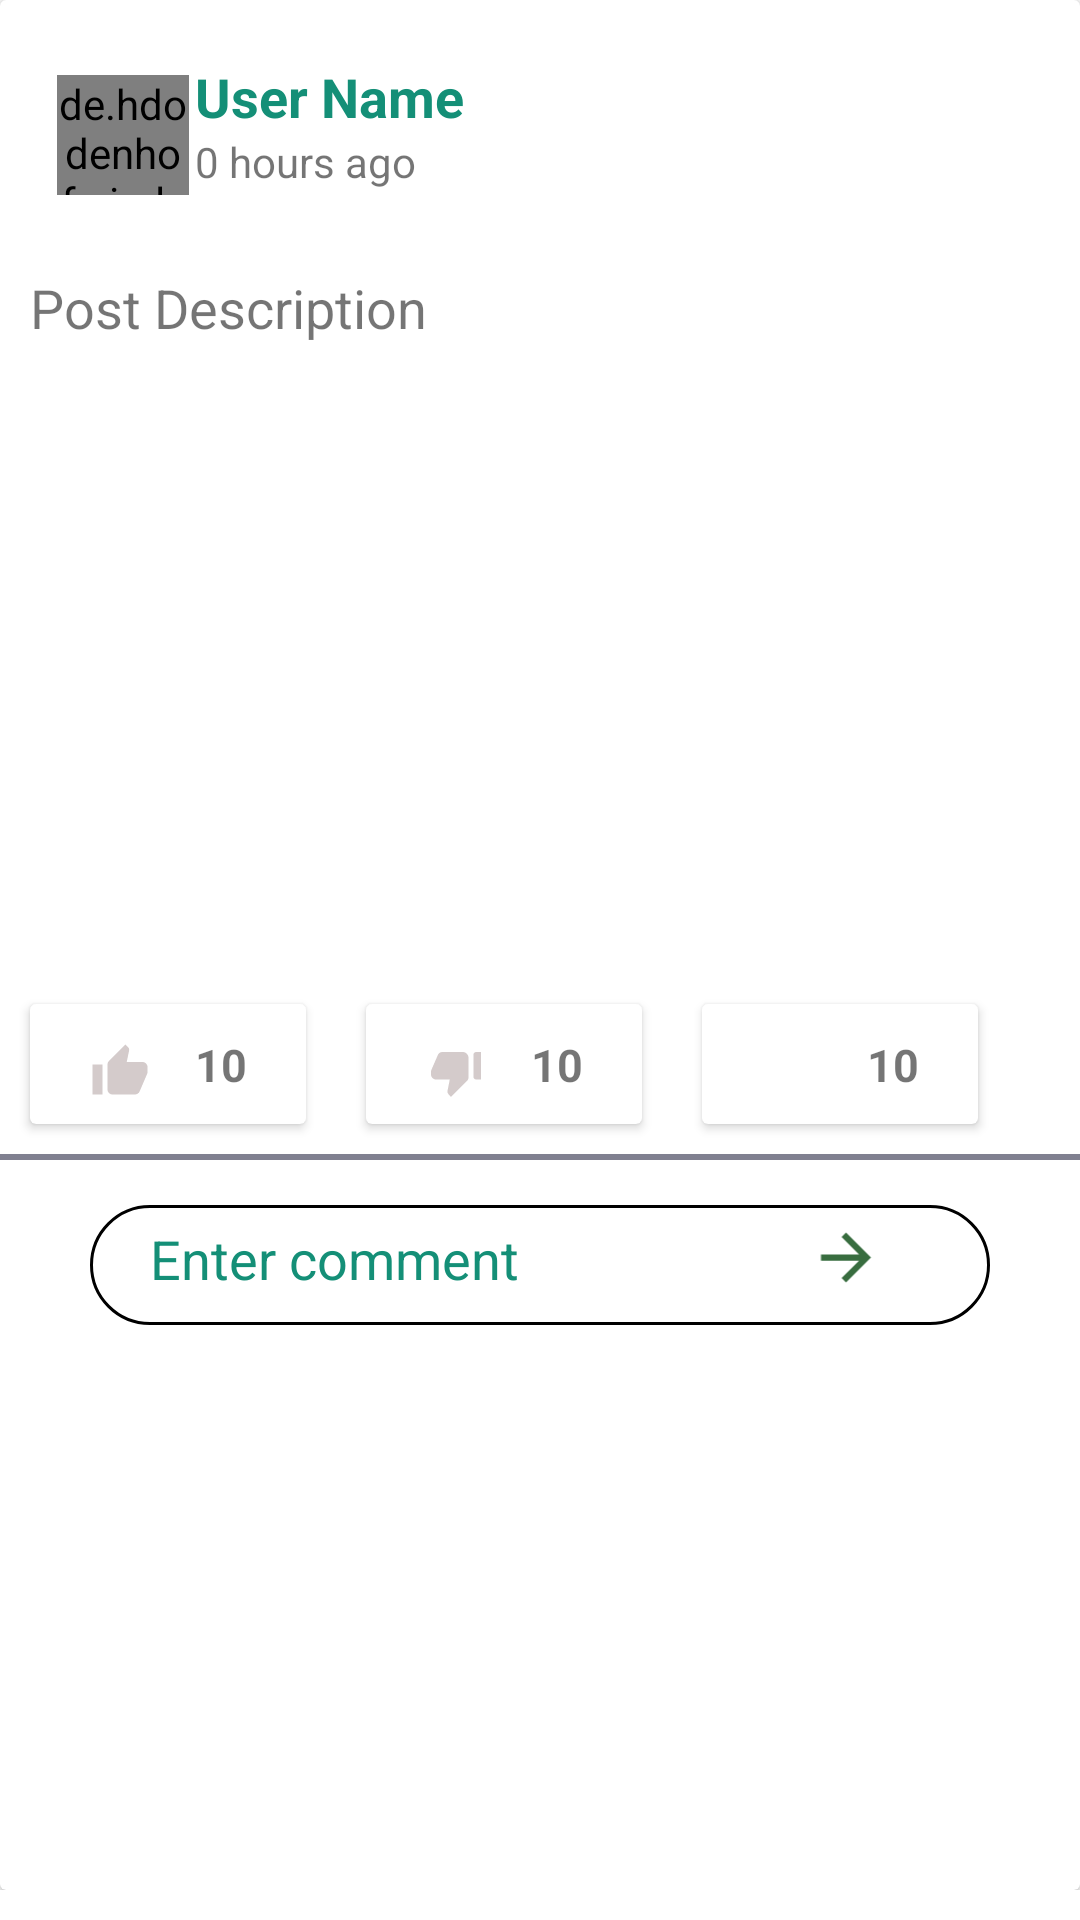

Locate icon controls on the screen. Image size 1080px×1920px, boxes as box=[x1, y1, x2, y2].
arrow forward: box=[820, 1232, 872, 1282]
thumb down: box=[431, 1052, 481, 1096]
thumb up: box=[92, 1045, 148, 1095]
